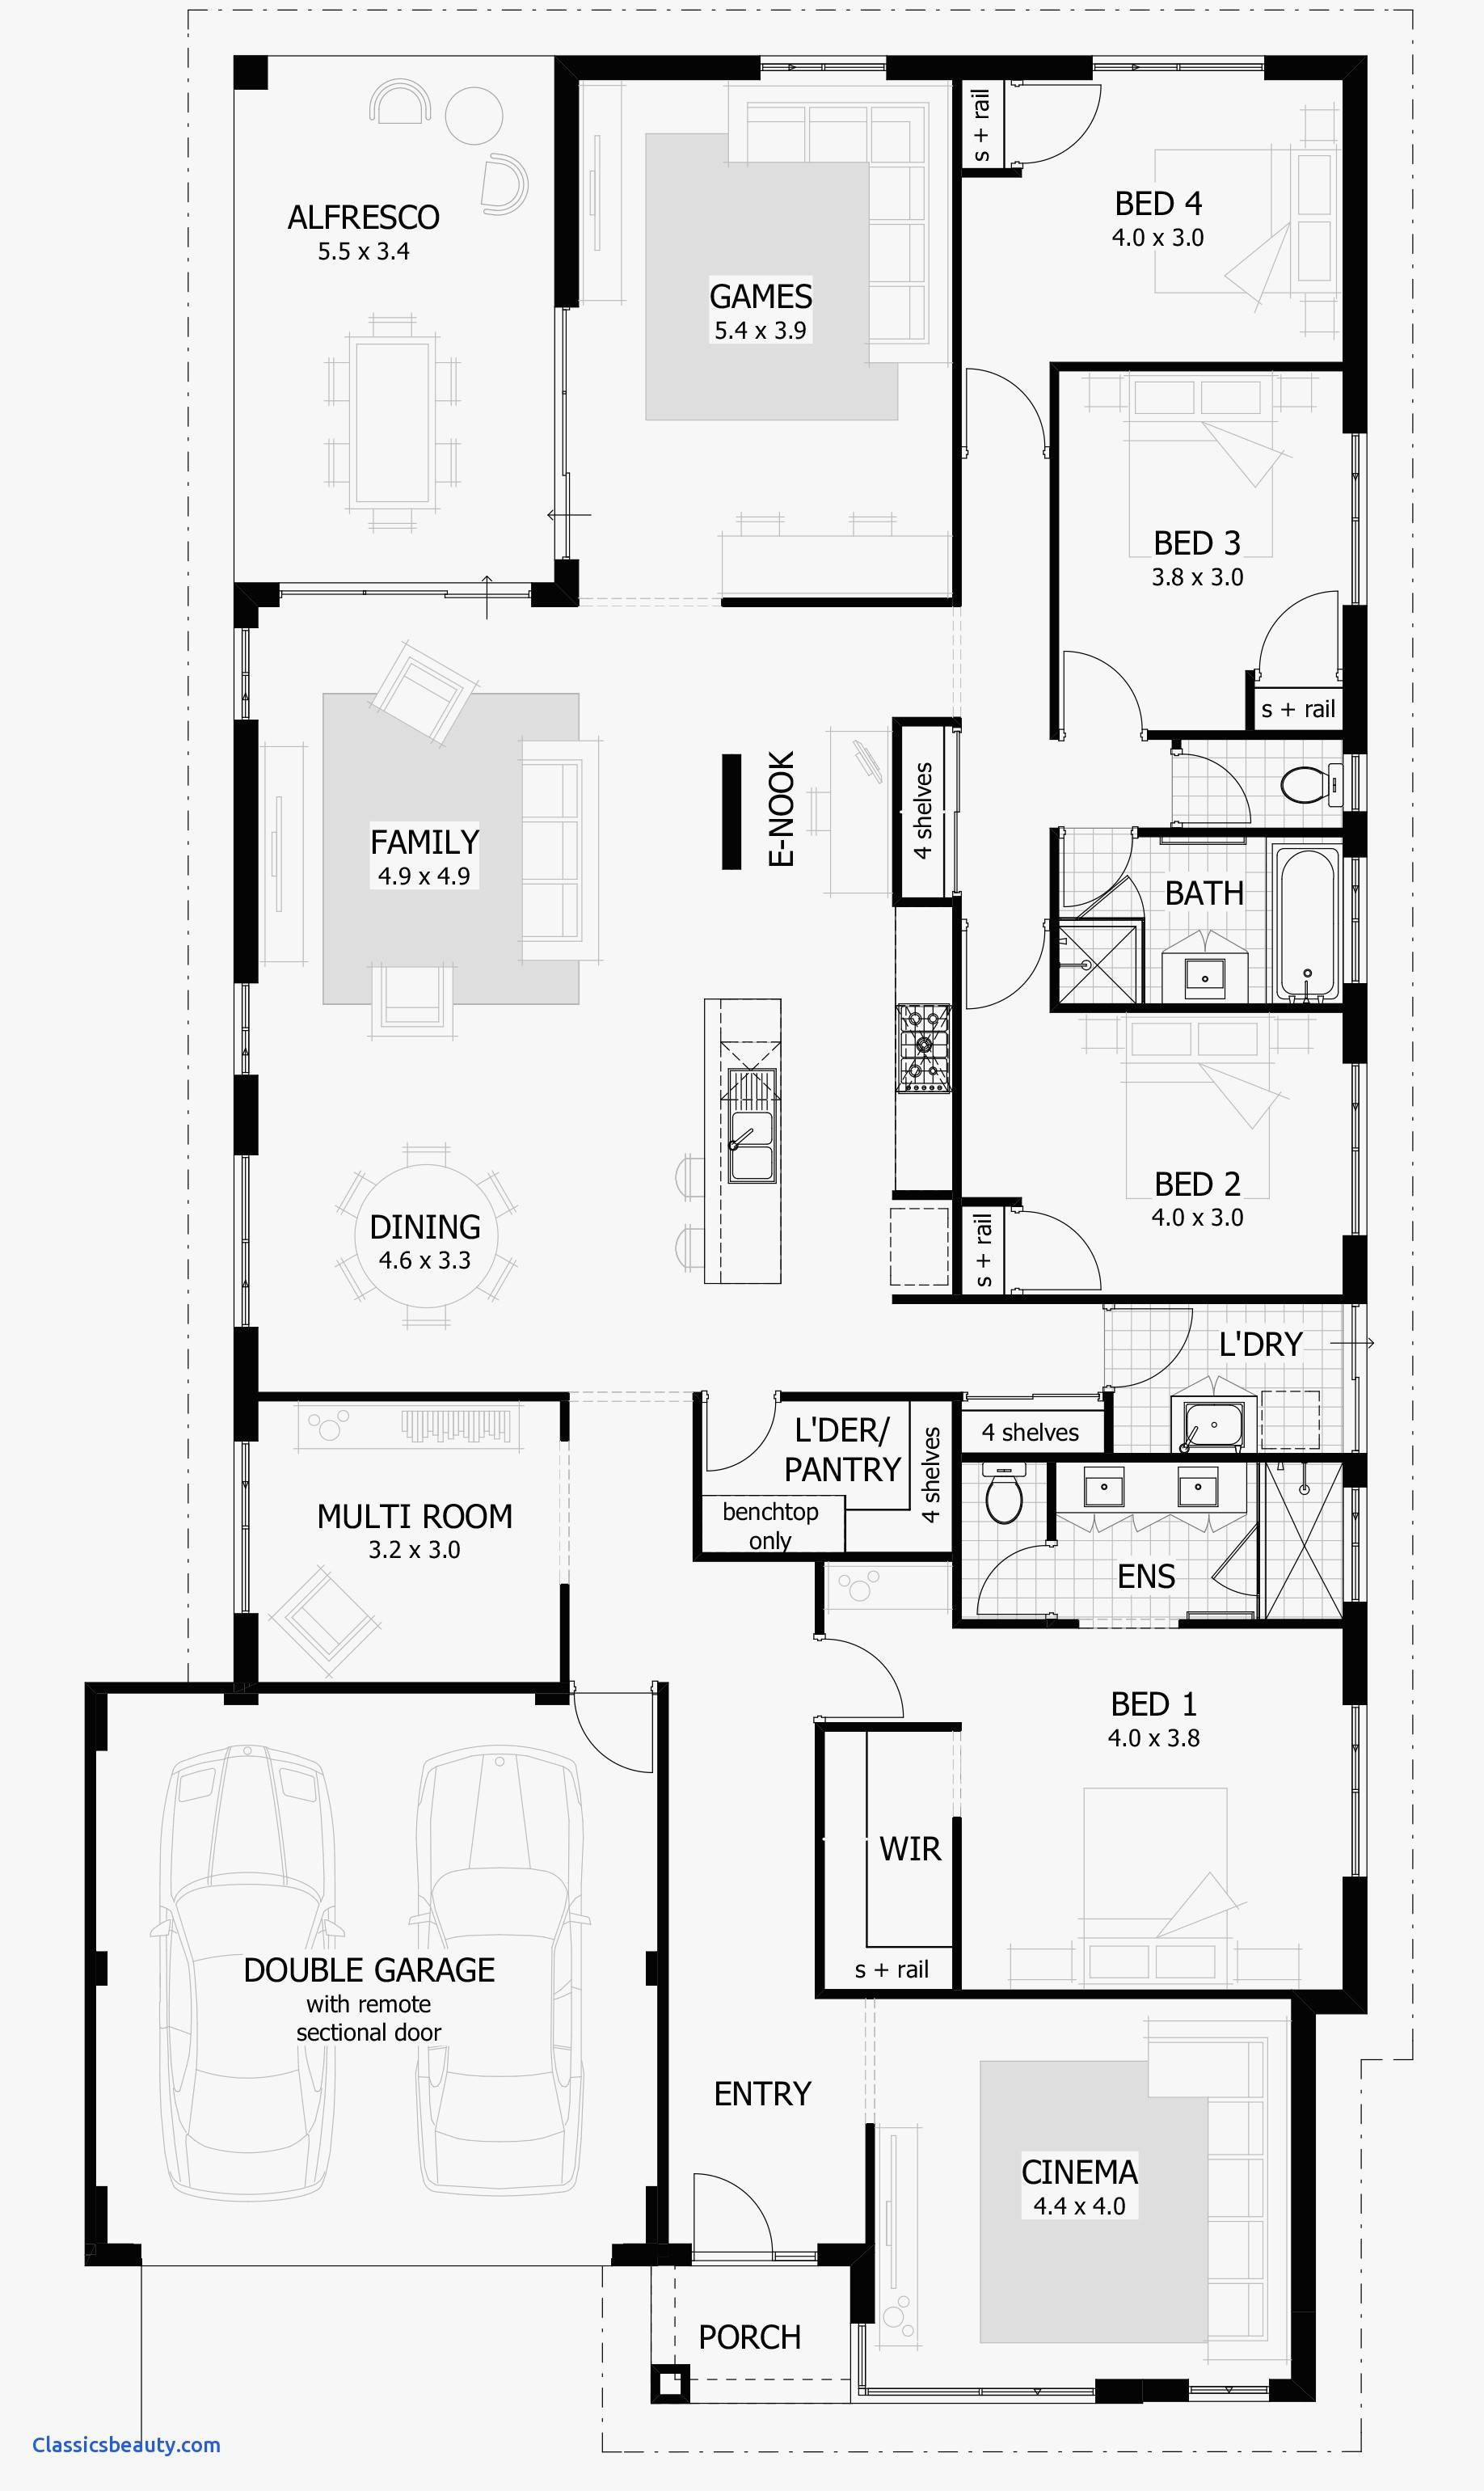door: (1253, 576, 1341, 668), (1030, 81, 1109, 170), (832, 1634, 912, 1721), (1028, 1203, 1106, 1291), (1062, 837, 1147, 917), (572, 1700, 655, 1777), (963, 362, 1046, 440), (685, 2162, 768, 2240), (1060, 645, 1141, 723), (965, 935, 1046, 1012), (968, 1537, 1042, 1618), (1127, 1306, 1196, 1385), (705, 1405, 777, 1479), (1185, 747, 1254, 825), (1210, 1532, 1256, 1595)
